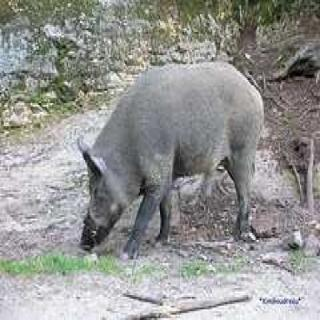Pig: (59, 43, 276, 264)
